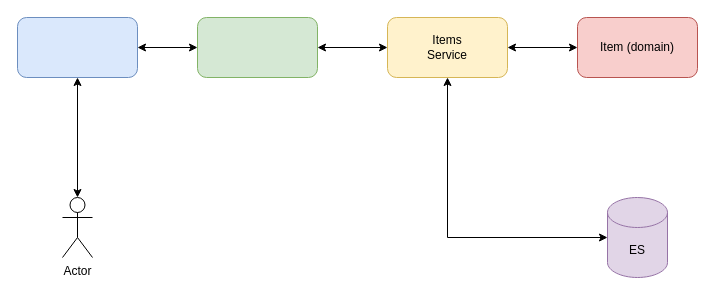
Some shapes in this 715 by 296 pixel diagram are drawn without their labels. The centre of each missing label's shape, as x and y in pixels:
"HTTP router (gorilla/mux)" goes at (77,47).
"Items Controller" goes at (257,47).
